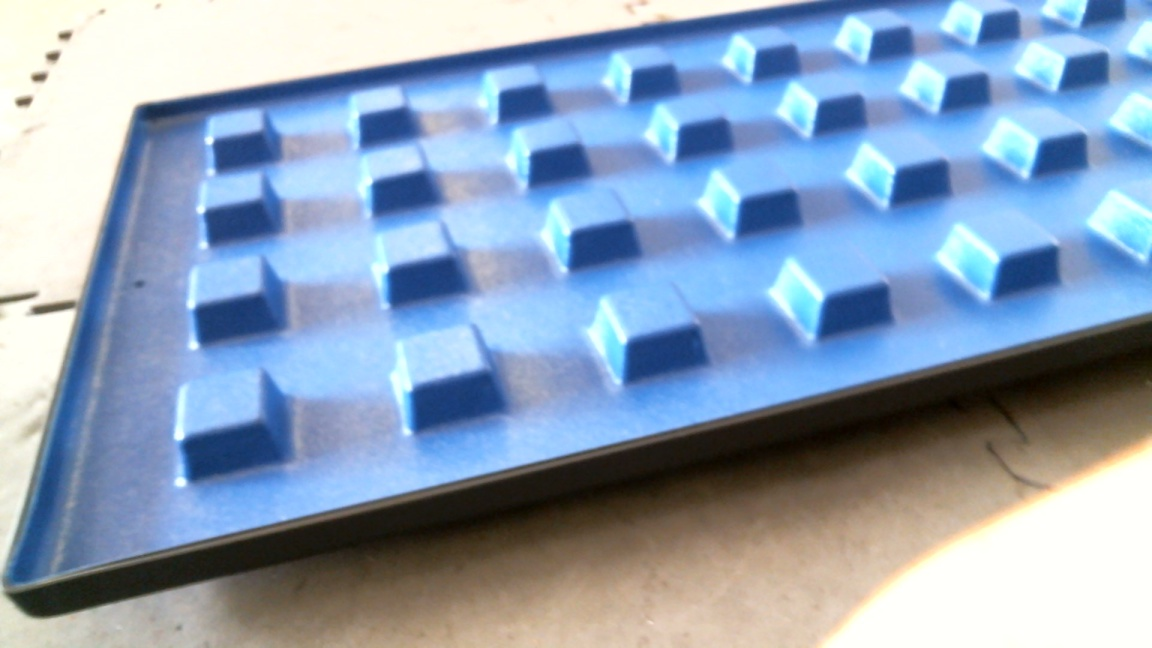blue_foundation: (6, 9, 1152, 622)
